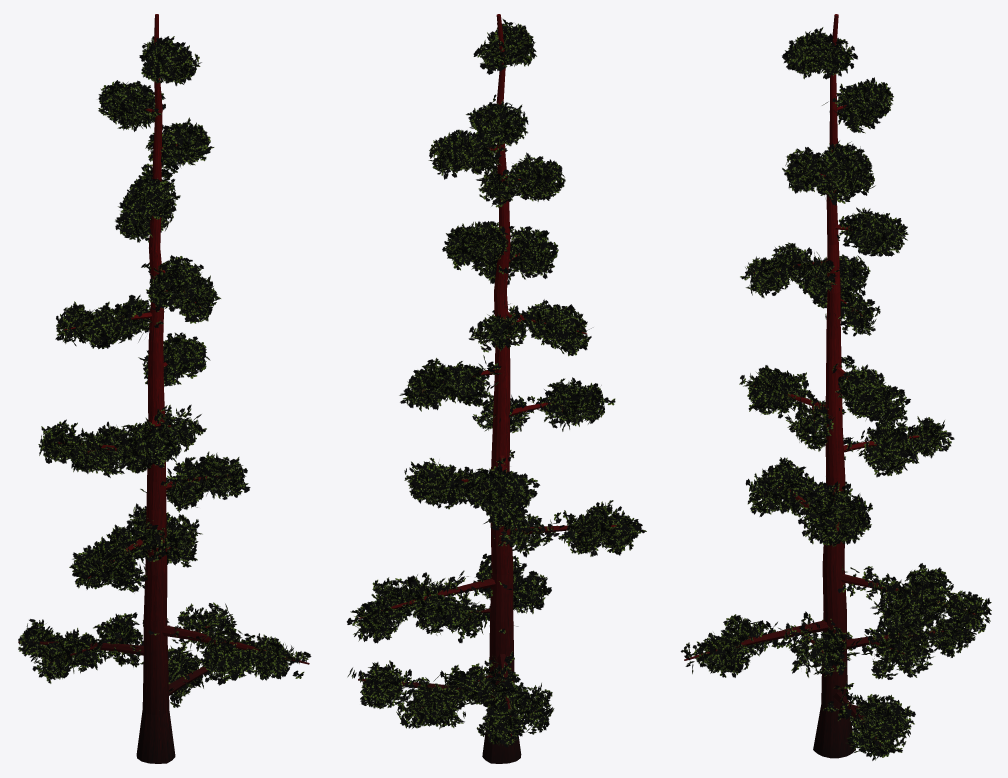
File: spruce_conifer_v03.glb
The picture shows the model from 3 angles, left to right: view 1: azimuth 30°, elevation 25°; view 2: azimuth 150°, elevation 25°; view 3: azimuth 270°, elevation 25°; orthographic projection.
Visible parts, largest first — view 1: spruce_conifer_v03; view 2: spruce_conifer_v03; view 3: spruce_conifer_v03.
Part boxes in pixels (x1,y1,x2,y2): spruce_conifer_v03: [18, 14, 311, 763]; spruce_conifer_v03: [346, 14, 646, 763]; spruce_conifer_v03: [680, 14, 991, 760].
Size of the model in its own units: 11.08 by 32.01 by 12.44.
2 materials, 2 textured.
